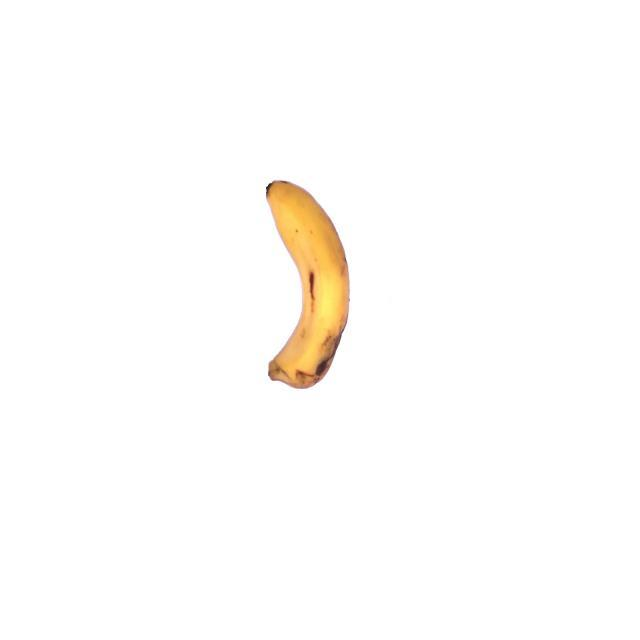banana: (257, 176, 352, 391)
